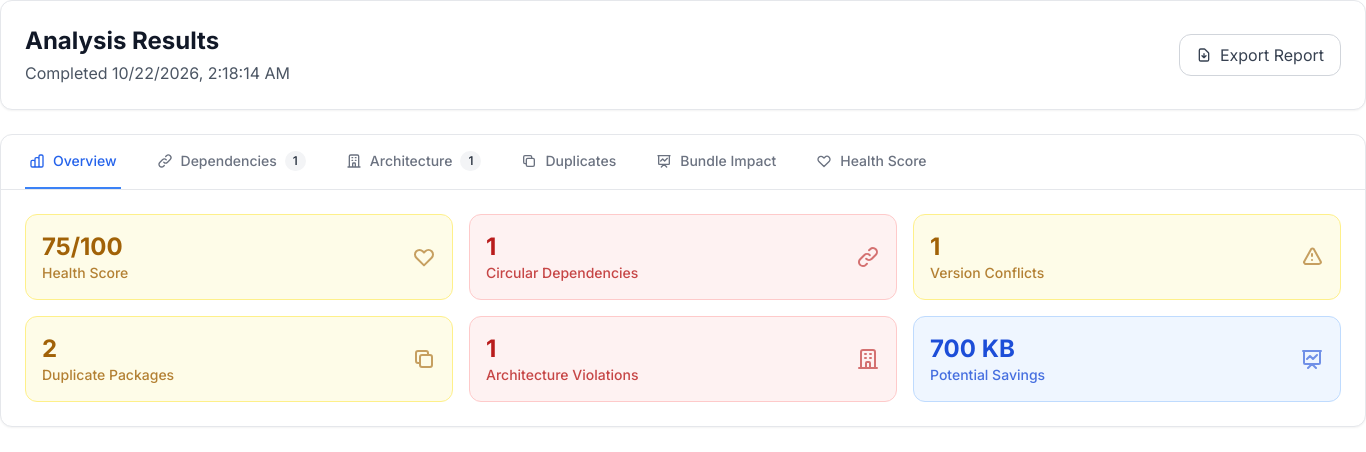
AnalysisResults › Empty States › [P1] should display empty state for missing duplicate detection
The width and height of the screenshot is (1366, 452).
Duplicates tab is clicked
Click the button "Duplicates" at (569, 162), box [517,135,620,189]
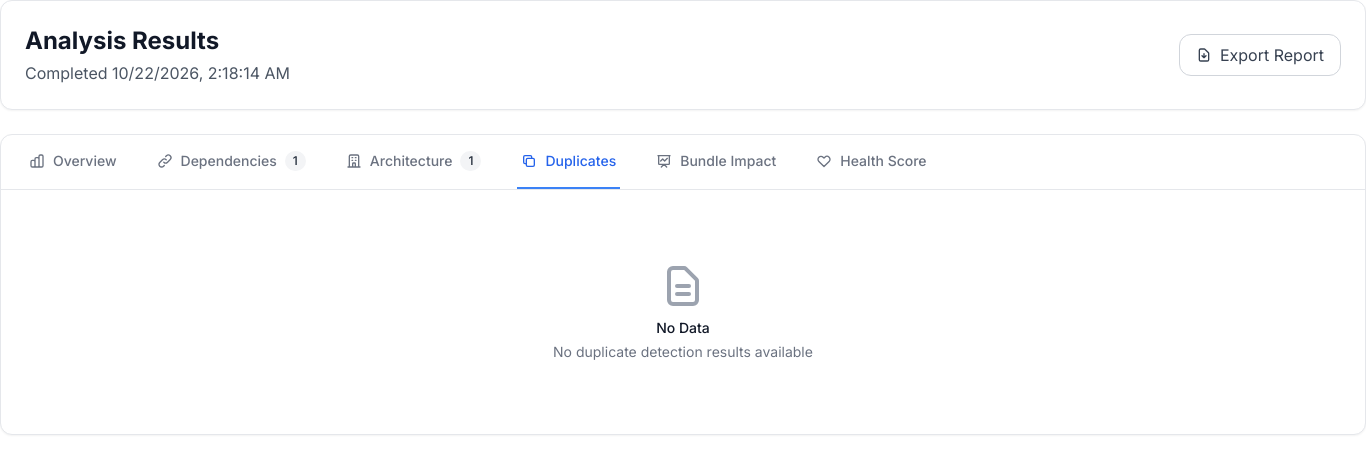
Result: the text "No duplicate detection results available" is shown at [553,343,813,360]
